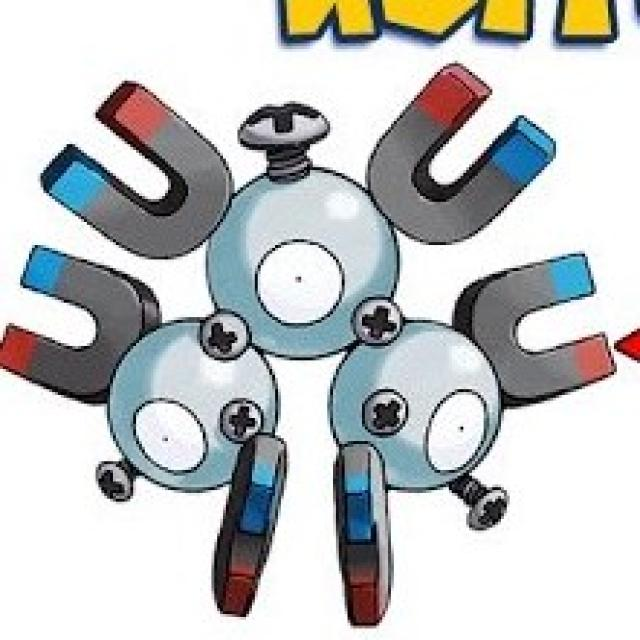Magneton: (52, 82, 520, 552)
